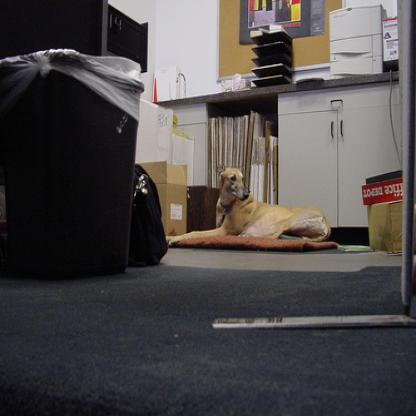dog: (161, 161, 335, 244)
